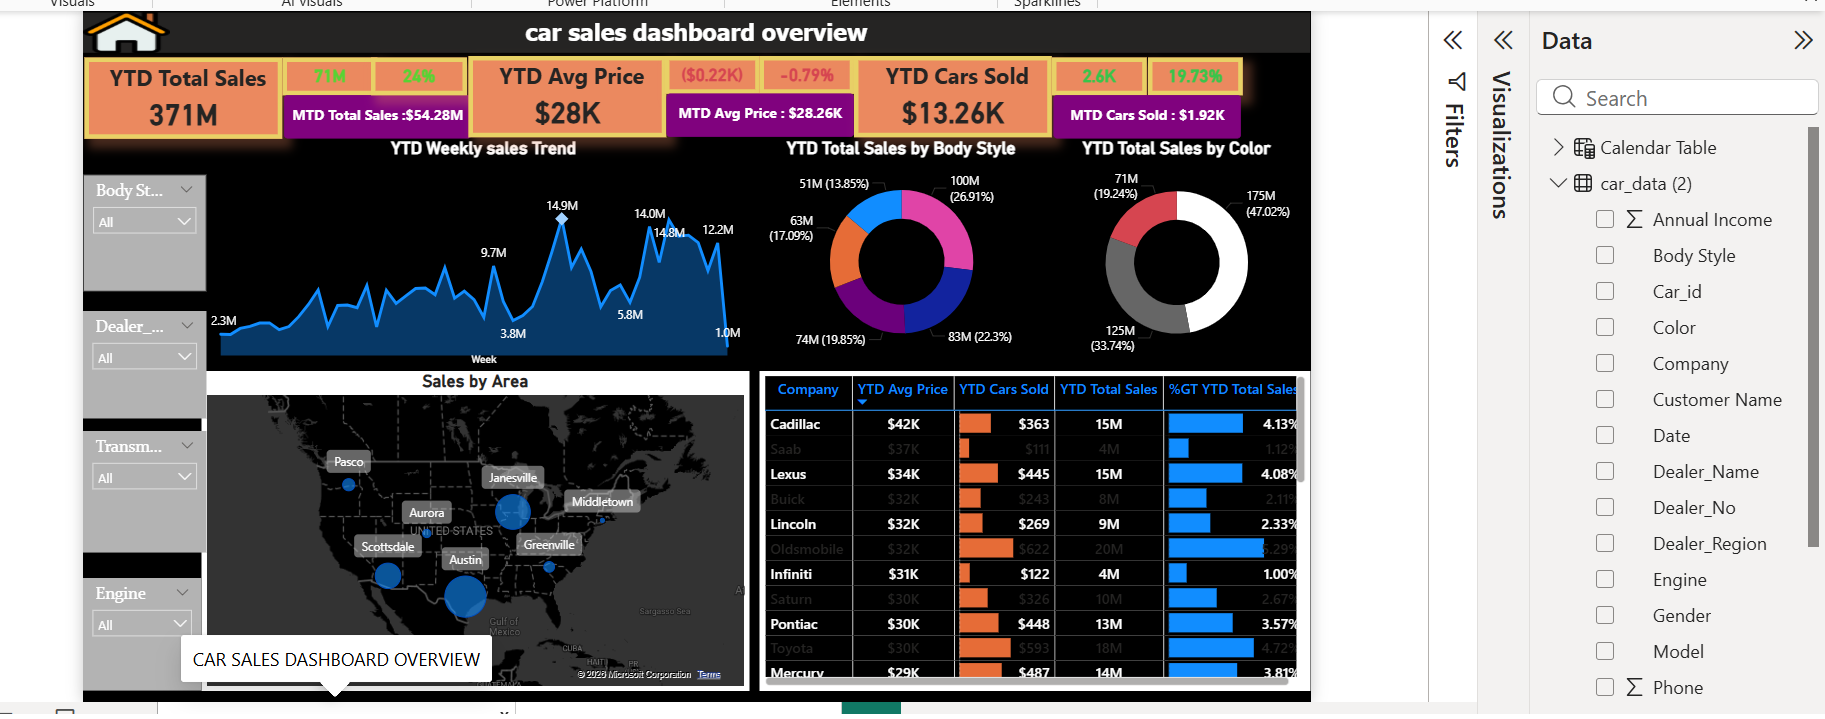

The dashboard page shown, as its layout file describes it:
{"tool":"powerbi","page":{"name":"CAR SALES DASHBOARD OVERVIEW","canvas":[1280,720],"ordinal":0},"visuals":[{"type":"card","title":"YTD Total Sales","fields":{"Values":["car_data.YTD Total Sales"]},"box":[0.9,49,206.3,120.4],"z":0},{"type":"card","title":"Sales Difference","fields":{"Values":["car_data.Sales Difference"]},"box":[207.3,49,98.5,73.5],"z":1000},{"type":"card","title":"year to year Growth","fields":{"Values":["car_data.YOY Growth"]},"box":[297.9,49,104.7,73.5],"z":2000},{"type":"card","fields":{"Values":["car_data.MTD KPI"]},"box":[206.2,122.4,195.4,45.3],"z":3000},{"type":"card","title":"YTD Avg Price","fields":{"Values":["car_data.YTD Avg Price"]},"box":[400.5,49,211,120.4],"z":4000},{"type":"card","title":"Sales Difference","fields":{"Values":["car_data.Avg Price Diff"]},"box":[608.9,50.5,143.8,75],"z":5000},{"type":"card","title":"YOY Avg Sales Growth","fields":{"Values":["car_data.YOY Avg Price Growth"]},"box":[752.7,49,136,76.6],"z":6000},{"type":"card","fields":{"Values":["car_data.MTD Avg Price KPI"]},"box":[608.9,124,279.8,45.3],"z":7000},{"type":"card","title":"YTD Cars Sold","fields":{"Values":["car_data.YTD Cars Sold"]},"box":[888.7,49,164.1,120.4],"z":8000},{"type":"card","title":"Sales Difference","fields":{"Values":["car_data.Cars Sold Diff"]},"box":[1051.8,49,114.1,71.9],"z":9000},{"type":"card","title":"YOY Avg Sales Growth","fields":{"Values":["car_data.YTY Car Sold Growth"]},"box":[1165.9,50.5,112.5,70.3],"z":10000},{"type":"card","fields":{"Values":["car_data.MTD Cars Sold KPI"]},"box":[1053.4,123,226.6,45.3],"z":11000},{"type":"areaChart","title":"YTD Weekly sales","fields":{"Category":["Calendar Table.WEEk"],"Y":["Sum(car_data.Price ($))","car_data.Max point"]},"box":[128.2,170.4,579.3,203.2],"z":12000},{"type":"donutChart","fields":{"Category":["car_data.Body Style"],"Y":["car_data.YTD Total Sales"]},"box":[711.7,169.8,282.9,200.1],"z":13000},{"type":"donutChart","fields":{"Y":["car_data.YTD Total Sales"],"Category":["car_data.Color"]},"box":[998.7,170.4,281.3,200.1],"z":14000},{"type":"map","title":"Sales by Area","fields":{"Size":["car_data.YTD Cars Sold"],"Category":["car_data.Dealer_Region"]},"box":[123.5,375.1,487.7,332.9],"z":15000},{"type":"tableEx","title":"company wise Sales ","fields":{"Values":["car_data.Company","car_data.YTD Avg Price","car_data.YTD Cars Sold","car_data.YTD Total Sales","car_data.YTD Total Sales1"]},"box":[616.3,369.4,662.2,338.6],"z":16000},{"type":"textbox","box":[0,1.6,1278.5,42.2],"z":17000},{"type":"slicer","fields":{"Values":["car_data.Body Style"]},"box":[0,170,128.3,121.7],"z":18000},{"type":"slicer","fields":{"Values":["car_data.Dealer_Name"]},"box":[0,313.3,128.3,111.7],"z":19000},{"type":"slicer","fields":{"Values":["car_data.Transmission"]},"box":[0,438.3,128.3,126.7],"z":20000},{"type":"slicer","fields":{"Values":["car_data.Engine"]},"box":[0,565,115,86.7],"z":21000}]}

Visuals, with their boxes on the page's 1280x720 design canvas (x1, y1, x2, y2). These are canvas units, not pixel positions in the 1825x719 screenshot, which may show the page scaled, cropped or inside an application window:
"YTD Total Sales" card: (x1=1, y1=49, x2=207, y2=169)
"Sales Difference" card: (x1=207, y1=49, x2=306, y2=122)
"year to year Growth" card: (x1=298, y1=49, x2=403, y2=122)
card - car_data.MTD KPI: (x1=206, y1=122, x2=402, y2=168)
"YTD Avg Price" card: (x1=400, y1=49, x2=612, y2=169)
"Sales Difference" card: (x1=609, y1=50, x2=753, y2=126)
"YOY Avg Sales Growth" card: (x1=753, y1=49, x2=889, y2=126)
card - car_data.MTD Avg Price KPI: (x1=609, y1=124, x2=889, y2=169)
"YTD Cars Sold" card: (x1=889, y1=49, x2=1053, y2=169)
"Sales Difference" card: (x1=1052, y1=49, x2=1166, y2=121)
"YOY Avg Sales Growth" card: (x1=1166, y1=50, x2=1278, y2=121)
card - car_data.MTD Cars Sold KPI: (x1=1053, y1=123, x2=1280, y2=168)
"YTD Weekly sales" areaChart: (x1=128, y1=170, x2=708, y2=374)
donutChart - car_data.Body Style x car_data.YTD Total Sales: (x1=712, y1=170, x2=995, y2=370)
donutChart - car_data.YTD Total Sales x car_data.Color: (x1=999, y1=170, x2=1280, y2=370)
"Sales by Area" map: (x1=124, y1=375, x2=611, y2=708)
"company wise Sales " tableEx: (x1=616, y1=369, x2=1278, y2=708)
textbox: (x1=0, y1=2, x2=1278, y2=44)
slicer - car_data.Body Style: (x1=0, y1=170, x2=128, y2=292)
slicer - car_data.Dealer_Name: (x1=0, y1=313, x2=128, y2=425)
slicer - car_data.Transmission: (x1=0, y1=438, x2=128, y2=565)
slicer - car_data.Engine: (x1=0, y1=565, x2=115, y2=652)
